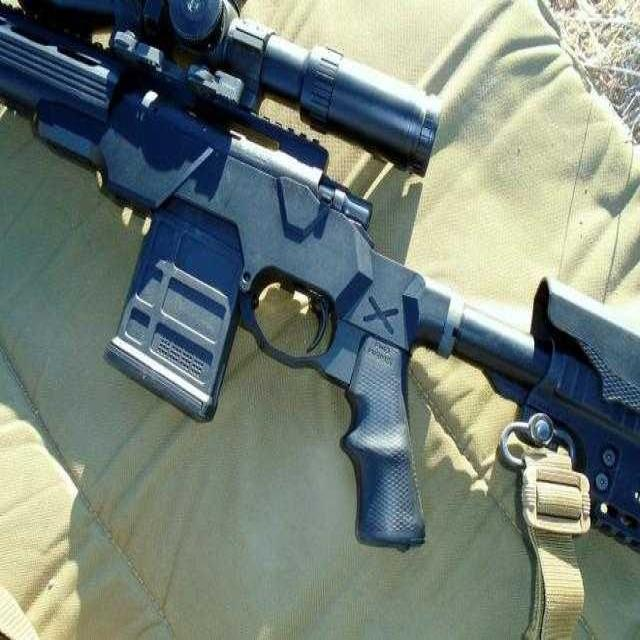heavyweapon: (1, 1, 472, 556)
